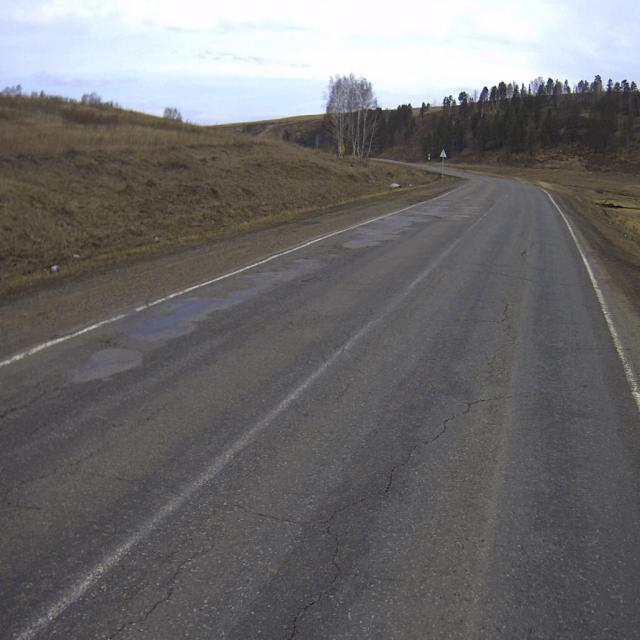road: (0, 169, 640, 639), (419, 166, 442, 172)
